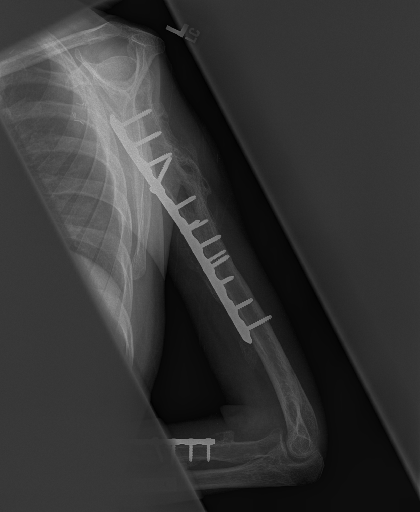implant: (109, 106, 273, 344), (165, 430, 218, 469)
